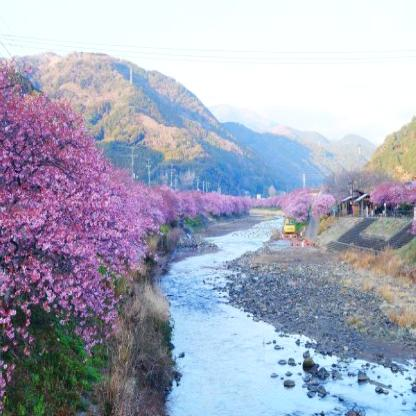KawazuSakura: (0, 50, 122, 353), (117, 180, 258, 222), (112, 164, 159, 271), (282, 178, 341, 233), (368, 172, 416, 214), (283, 216, 296, 236)
